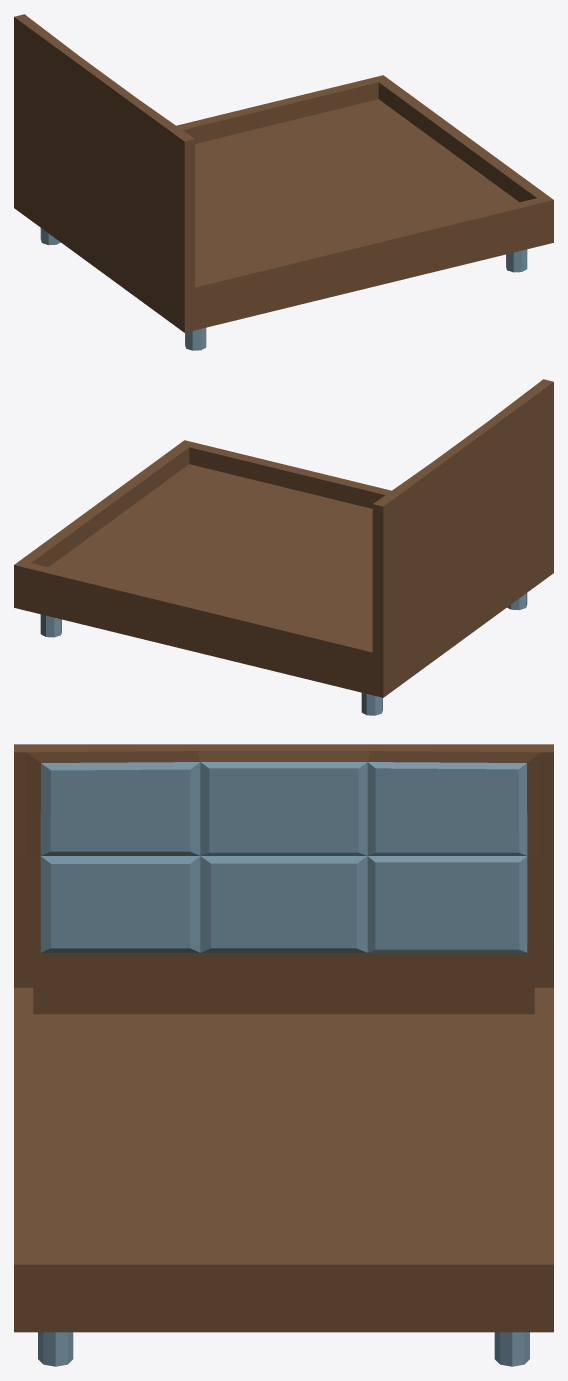
Rendered from Bedroom_Basebed.fbx.
3 renders of one model, top to bottom at view 1: azimuth 30°, elevation 25°; view 2: azimuth 150°, elevation 25°; view 3: azimuth 270°, elevation 25°, orthographic. The views are drawn at different scales.
Parts seen in each view (by area): view 1: Bedroom_Basebed; view 2: Bedroom_Basebed; view 3: Bedroom_Basebed.
Boxes of the visible parts, x1,y1,x2,y2 form: Bedroom_Basebed: (14, 14, 553, 350); Bedroom_Basebed: (14, 379, 553, 715); Bedroom_Basebed: (14, 744, 553, 1366).
Bounding box in the file's own units: 326 × 186 × 261.
